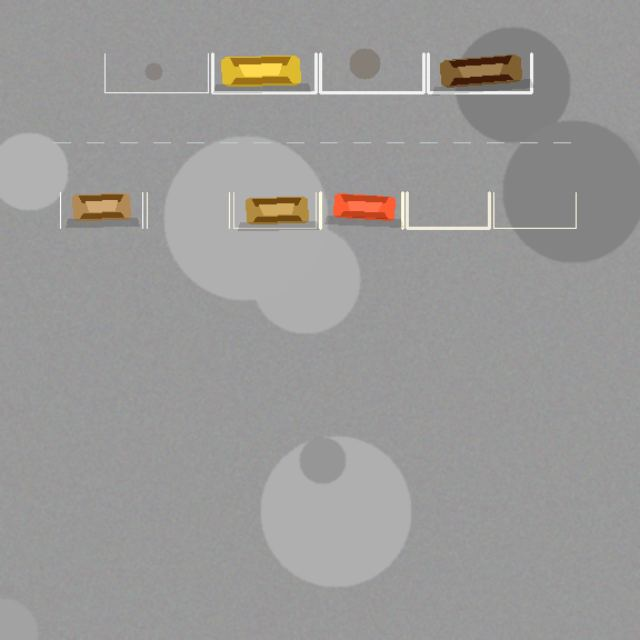space-empty: (104, 53, 208, 92), (320, 53, 423, 92), (493, 192, 576, 228), (147, 192, 229, 228), (407, 192, 489, 228)
space-occupied: (212, 53, 316, 92), (428, 53, 531, 92), (233, 192, 316, 228), (60, 192, 142, 228), (320, 192, 402, 228)
